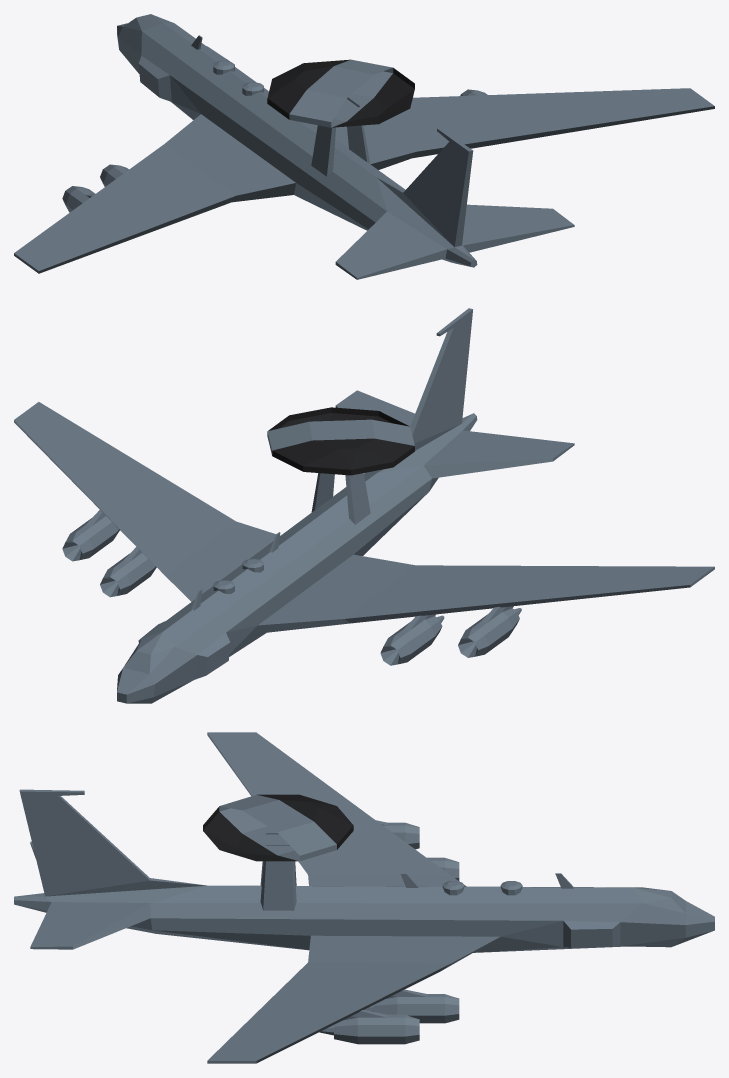
File: AWACS-E3.glb
3 views of the same model, one above another, from view 1: azimuth 30°, elevation 25°; view 2: azimuth 150°, elevation 25°; view 3: azimuth 270°, elevation 25° (orthographic).
Bounding box in the file's own units: 41.02 × 9.55 × 37.
